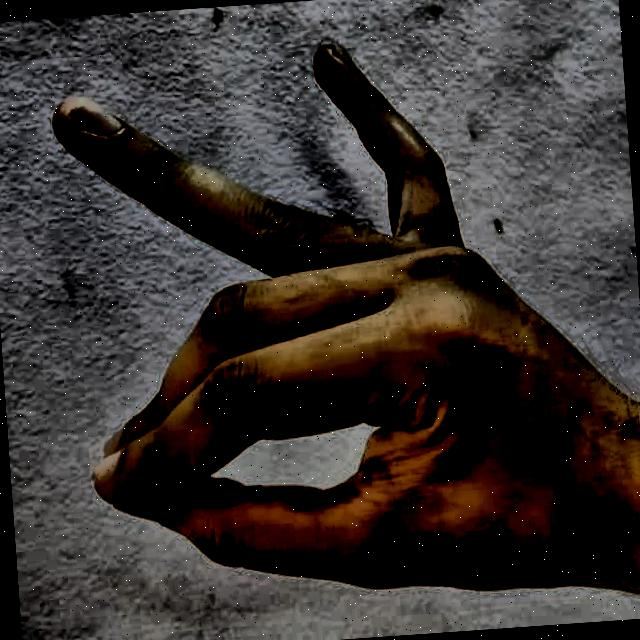Na: (31, 7, 592, 639)
